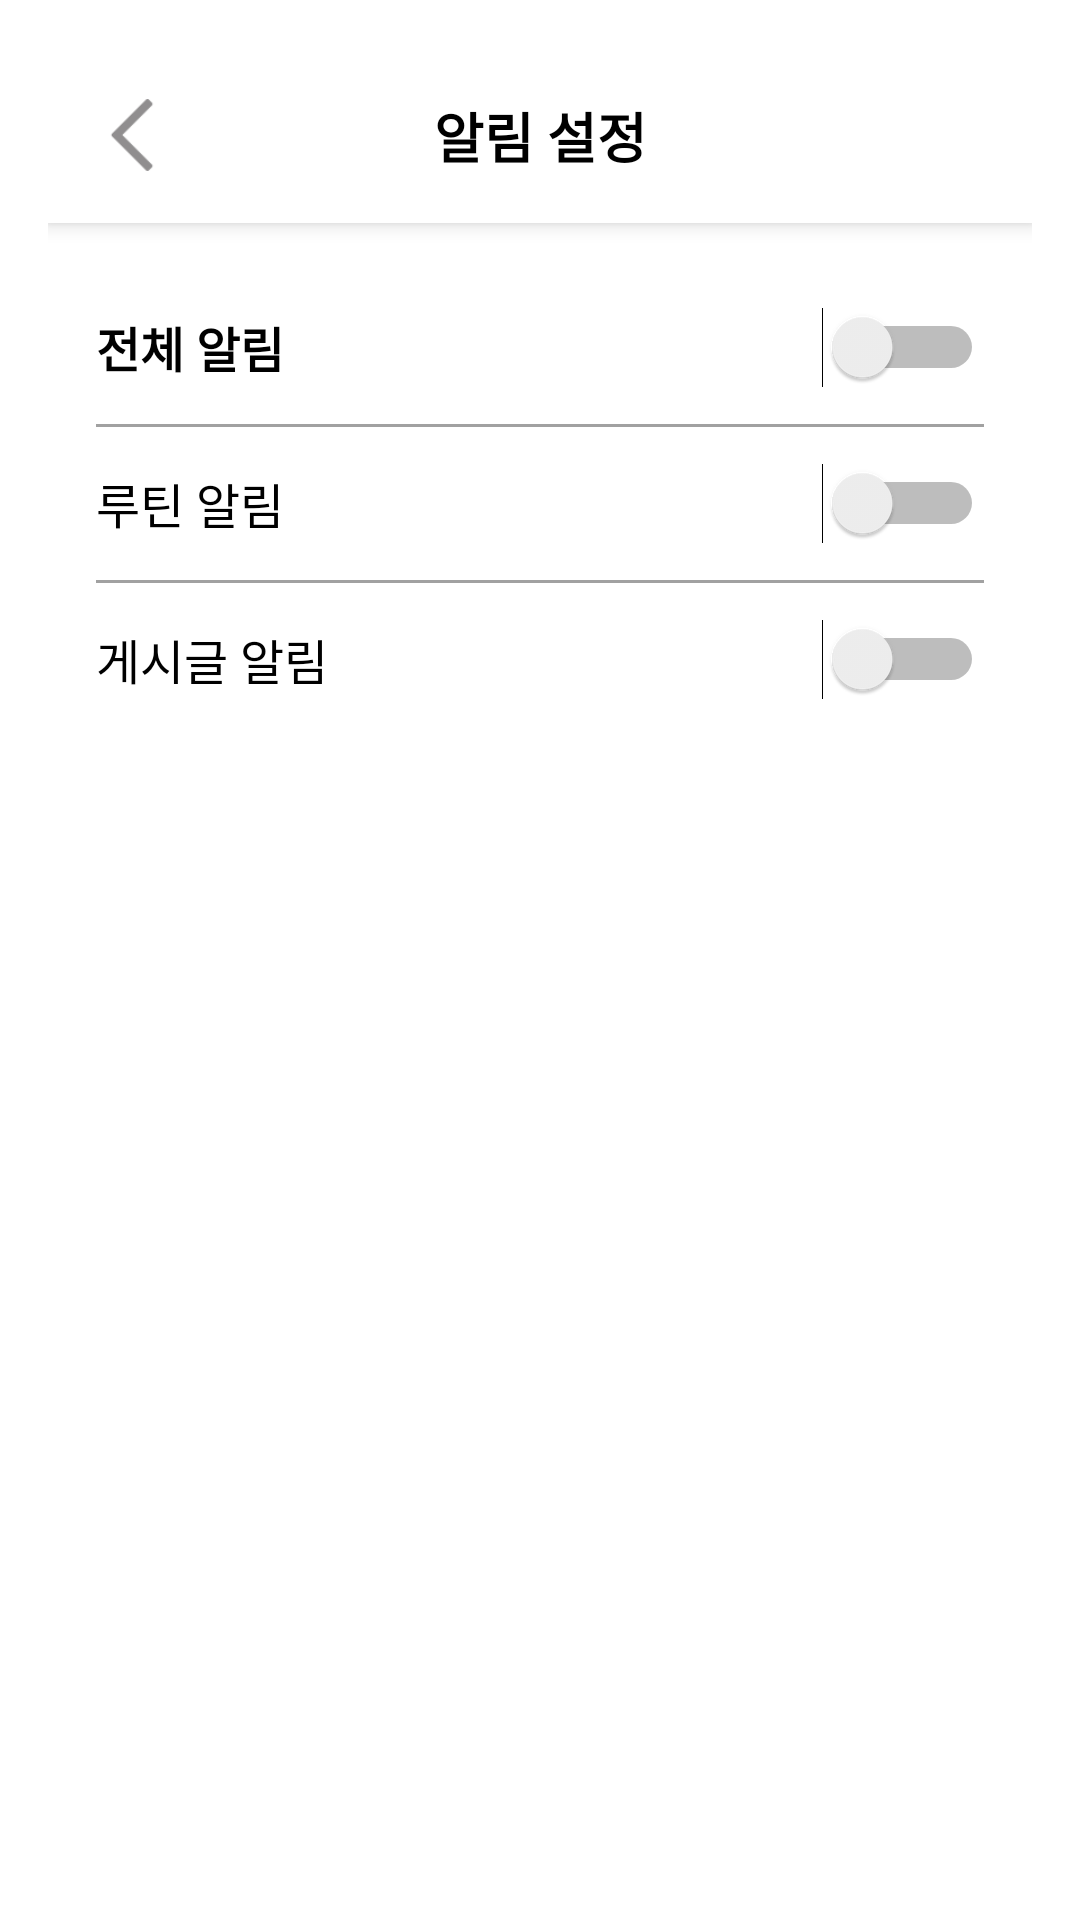

Named icons in this screenshot (1080px×1920px) and their bounding boxes, (x1, y1, x2, y2):
Back: (111, 99, 153, 171)
